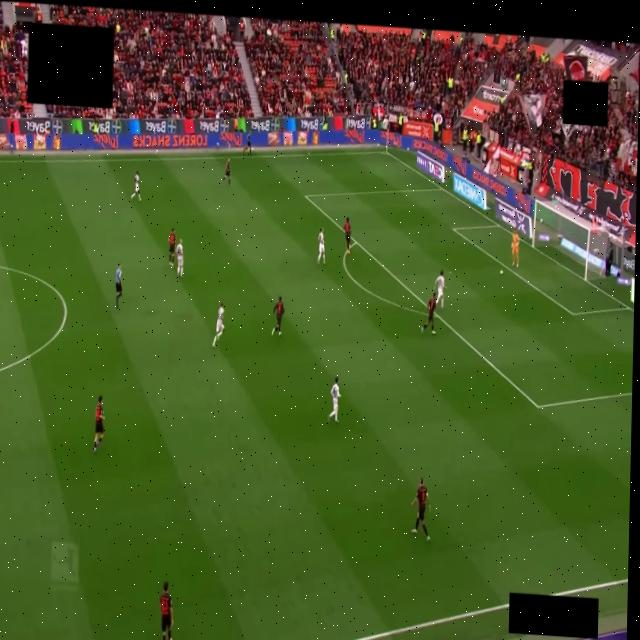ball: (500, 270, 503, 274)
player: (411, 478, 430, 540), (160, 581, 172, 639), (420, 293, 435, 334), (327, 378, 340, 422), (93, 396, 103, 452), (271, 297, 284, 335), (212, 303, 223, 347), (434, 271, 444, 308), (168, 228, 175, 267), (131, 171, 140, 201), (343, 217, 350, 254), (176, 239, 183, 276), (511, 233, 518, 266), (222, 159, 230, 185), (318, 230, 324, 264)
referee: (115, 264, 121, 308)
